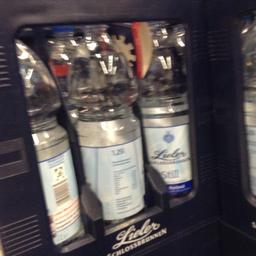water: (65, 24, 144, 219), (14, 30, 84, 241), (137, 19, 190, 200)
